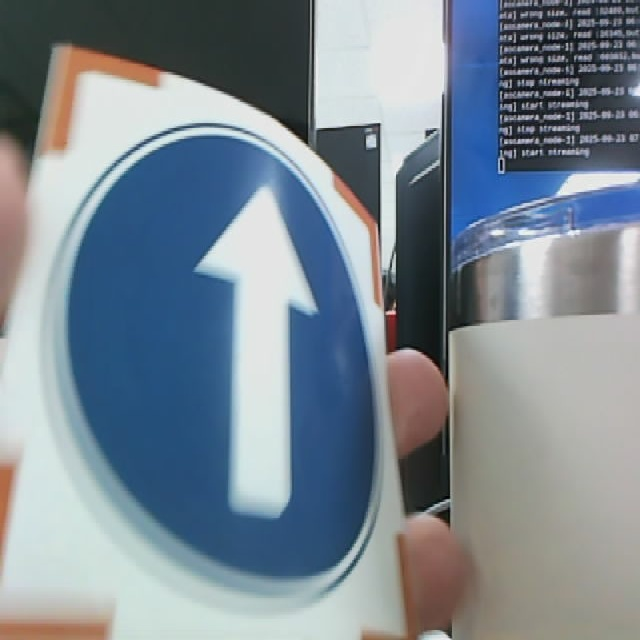strait: (2, 41, 410, 640)
